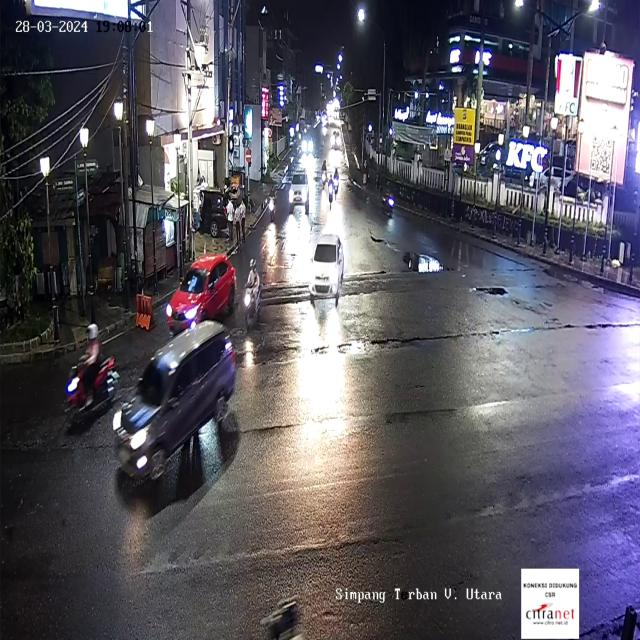car: (111, 317, 241, 518), (167, 251, 238, 336), (310, 233, 345, 308), (290, 168, 308, 212)
motorcycle: (64, 348, 121, 432), (244, 256, 262, 334), (382, 180, 397, 216), (268, 186, 277, 220), (332, 168, 341, 200), (328, 172, 333, 207), (321, 158, 326, 189)
